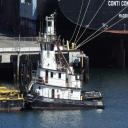tugboat: (20, 13, 107, 114)
